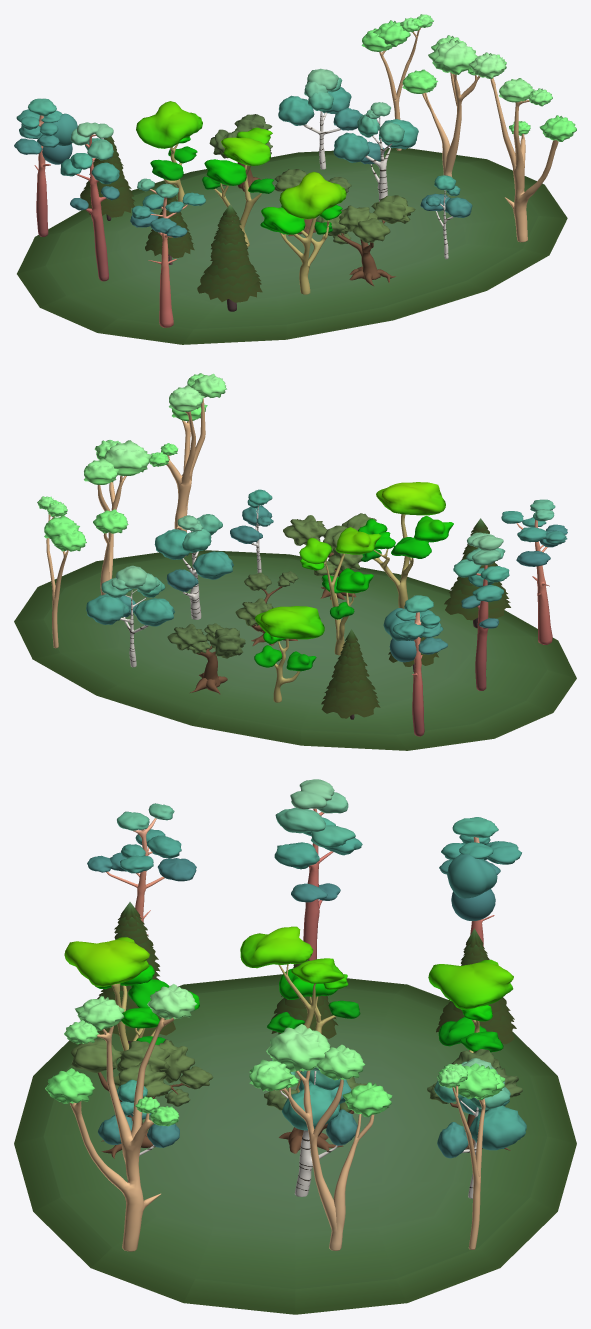
File: lowpoly_trees.glb
3 renders of one model, top to bottom at view 1: azimuth 30°, elevation 25°; view 2: azimuth 150°, elevation 25°; view 3: azimuth 270°, elevation 25°, orthographic. The views are drawn at different scales.
Parts seen in each view (by area): view 1: Object_9, Object_5, Object_2, Object_7, Object_3, Object_8, Object_4, Object_6; view 2: Object_9, Object_2, Object_5, Object_8, Object_7, Object_3, Object_4, Object_6; view 3: Object_9, Object_2, Object_5, Object_7, Object_4, Object_3, Object_8, Object_6.
Boxes of the visible parts, bbox=[...] form: Object_9: bbox=[14, 98, 567, 344]; Object_5: bbox=[145, 127, 346, 311]; Object_2: bbox=[80, 35, 576, 242]; Object_7: bbox=[60, 14, 433, 281]; Object_3: bbox=[333, 102, 472, 259]; Object_8: bbox=[209, 68, 362, 191]; Object_4: bbox=[274, 169, 415, 286]; Object_6: bbox=[130, 178, 205, 327]; Object_9: bbox=[14, 550, 576, 750]; Object_2: bbox=[84, 373, 380, 719]; Object_5: bbox=[299, 482, 510, 671]; Object_8: bbox=[86, 565, 245, 694]; Object_7: bbox=[37, 496, 509, 690]; Object_3: bbox=[154, 489, 273, 619]; Object_4: bbox=[235, 513, 376, 645]; Object_6: bbox=[501, 499, 567, 644]; Object_9: bbox=[14, 817, 576, 1314]; Object_2: bbox=[45, 928, 516, 1251]; Object_5: bbox=[64, 902, 360, 1092]; Object_7: bbox=[274, 779, 505, 1249]; Object_4: bbox=[71, 1039, 366, 1158]; Object_3: bbox=[98, 1060, 357, 1196]; Object_8: bbox=[427, 1049, 526, 1198]; Object_6: bbox=[87, 803, 196, 934].
Bounding box in the file's own units: 23.62 × 8.29 × 16.44.
Materials: 1 (1 with a texture image).
